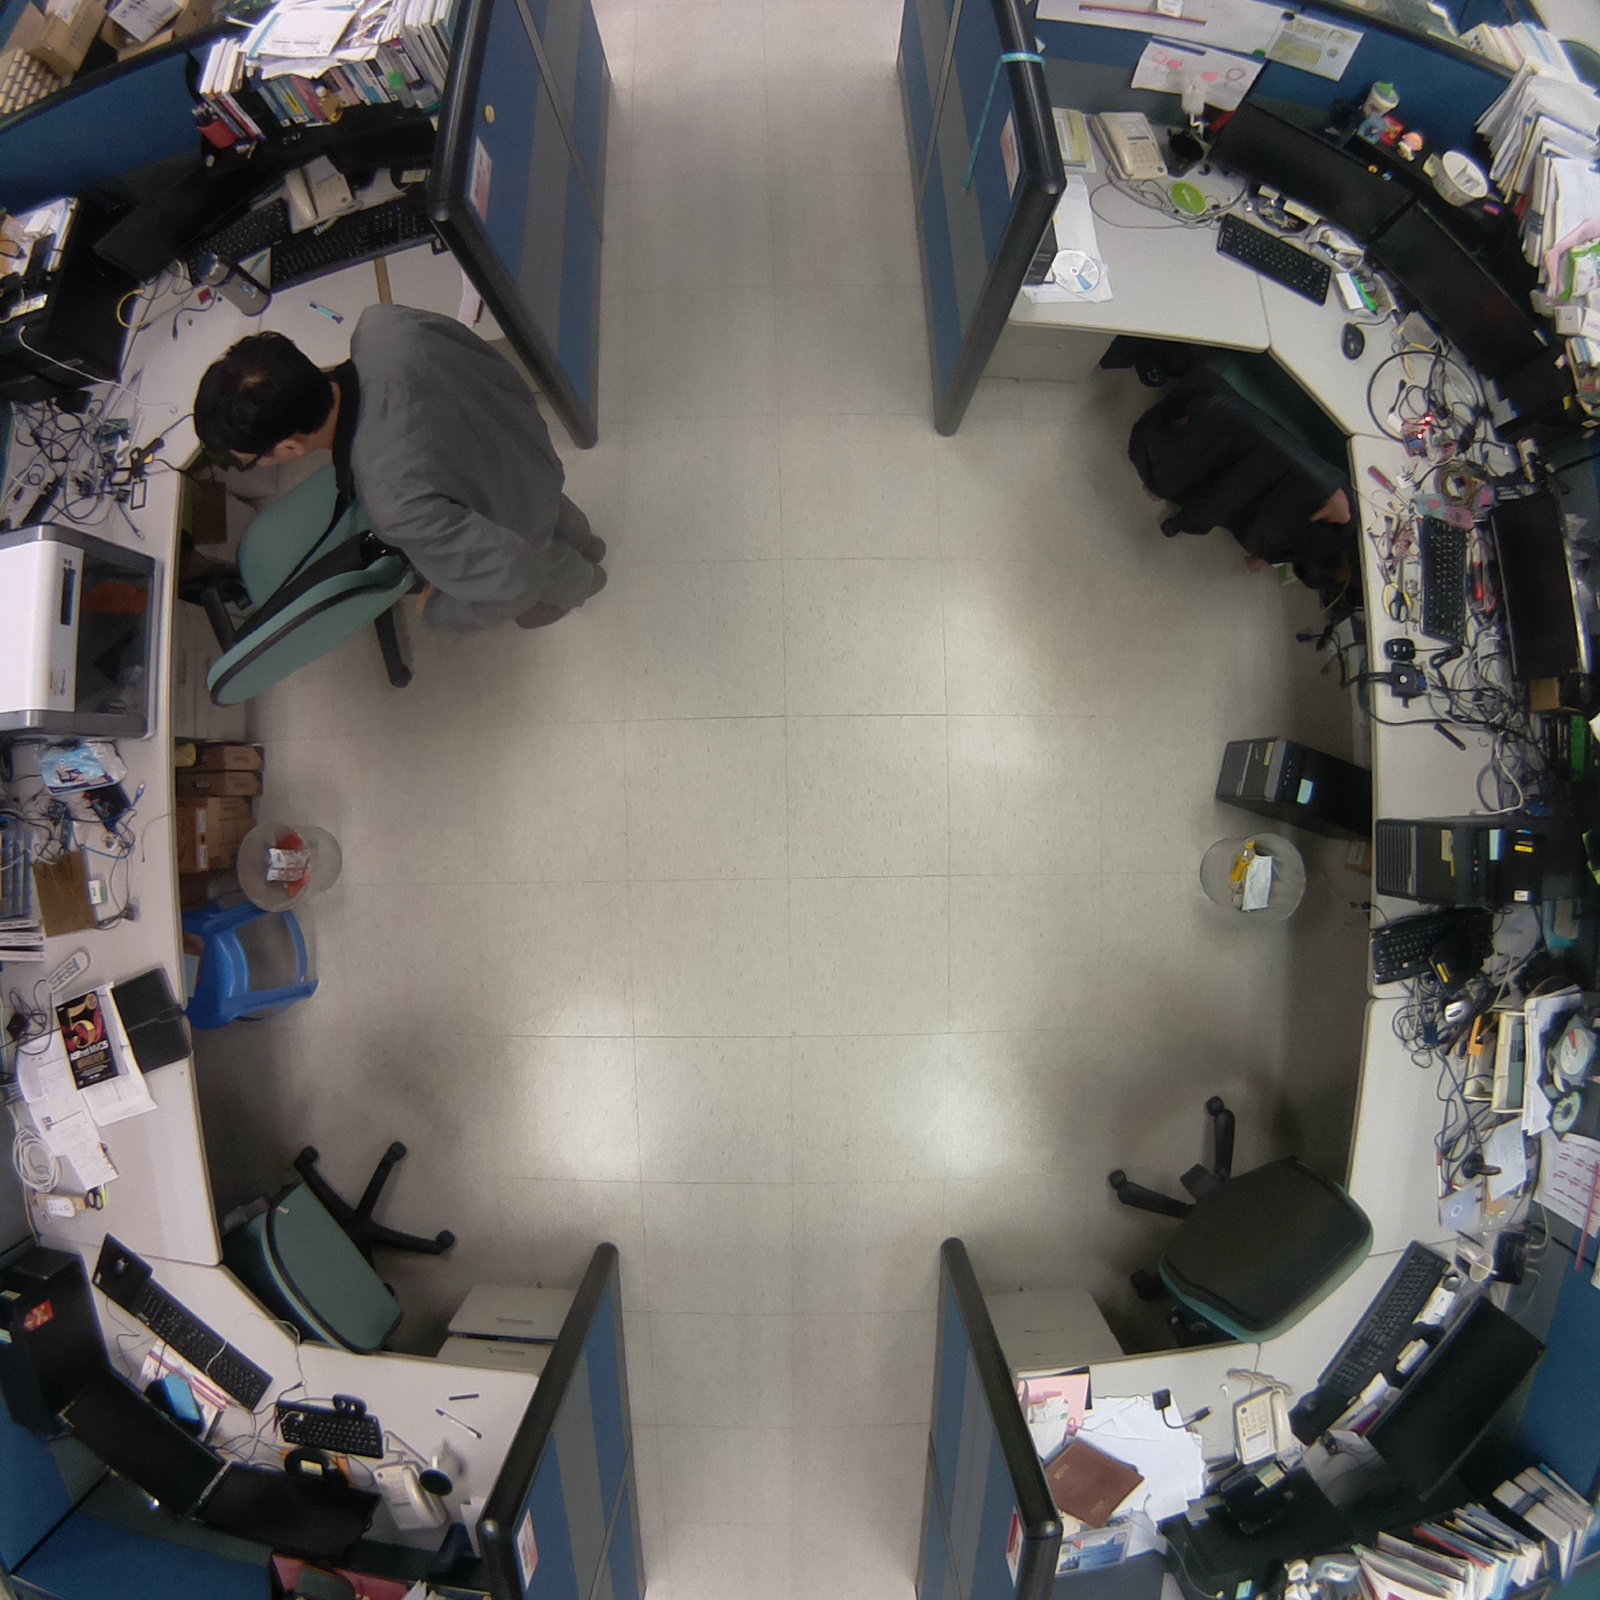chair: (1088, 1078, 1386, 1355), (1101, 304, 1386, 591), (204, 1119, 488, 1373), (160, 460, 422, 719)
head: (189, 321, 340, 474)
standing: (167, 286, 629, 709)
